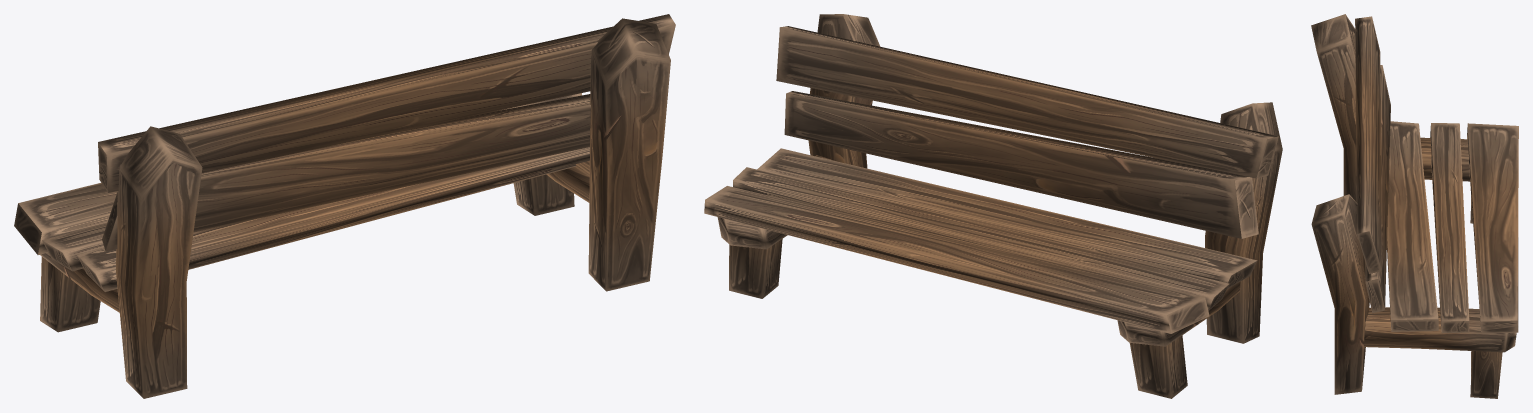
Rendered from benchWoodA.fbx.
The picture shows the model from 3 angles, left to right: view 1: azimuth 30°, elevation 25°; view 2: azimuth 150°, elevation 25°; view 3: azimuth 270°, elevation 25°; orthographic projection. The views are drawn at different scales.
Parts seen in each view (by area): view 1: benchWoodA; view 2: benchWoodA; view 3: benchWoodA.
Boxes of the visible parts, box(x1,y1,x2,y2) form: benchWoodA: box(14, 14, 675, 398); benchWoodA: box(704, 14, 1282, 398); benchWoodA: box(1311, 14, 1518, 398).
Size of the model in its own units: 308 by 139 by 130.
1 material, 1 textured.
